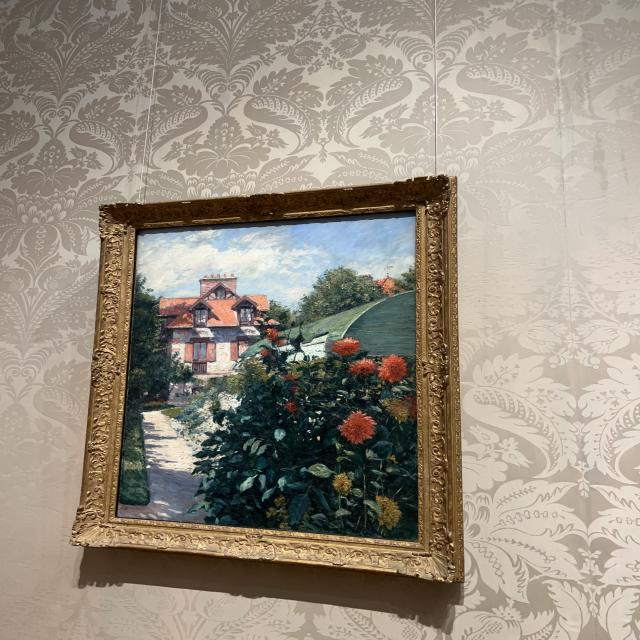summer: (123, 222, 415, 538)
